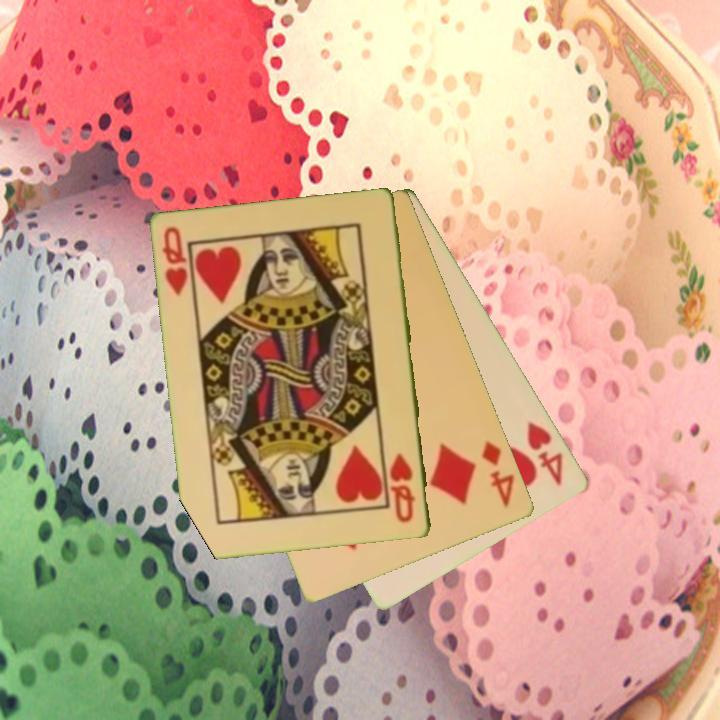4d: (478, 437, 518, 511)
4h: (524, 418, 567, 489)
Qh: (159, 223, 192, 299), (387, 450, 418, 526)
